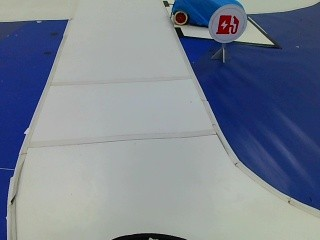battery: (210, 7, 242, 41)
car: (169, 0, 246, 28)
